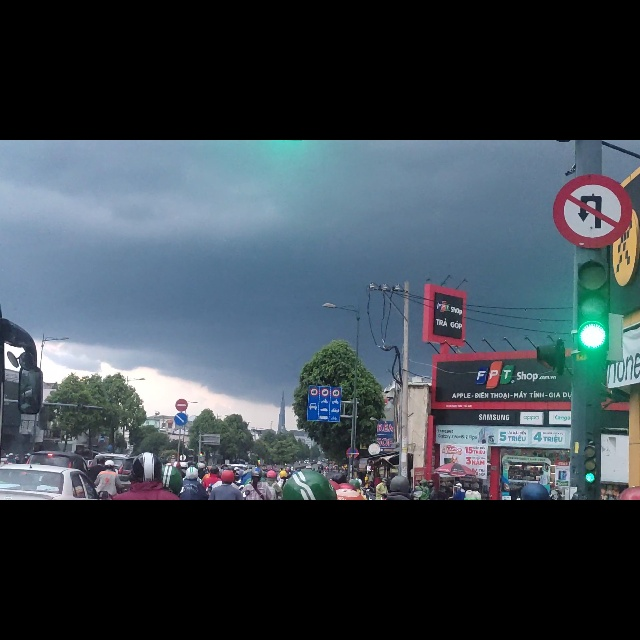bien_hieu_lenh: (552, 60, 632, 189), (307, 434, 342, 500), (174, 483, 188, 507), (175, 459, 188, 482)
